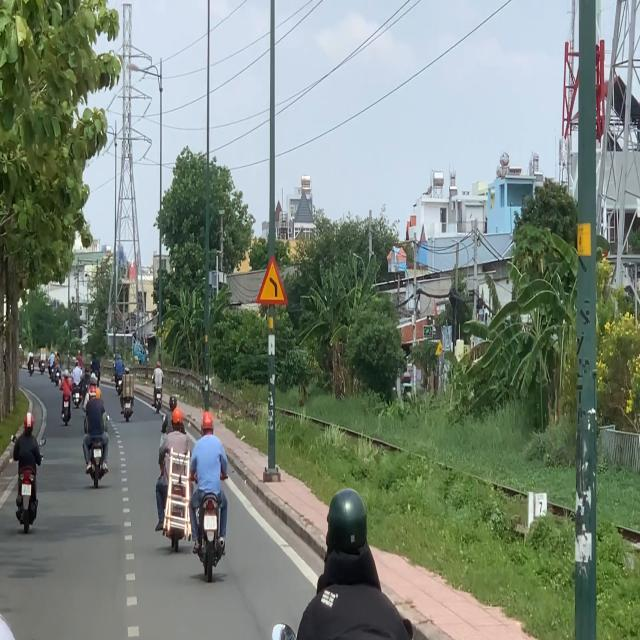Nguy hiem: (253, 250, 290, 310)
